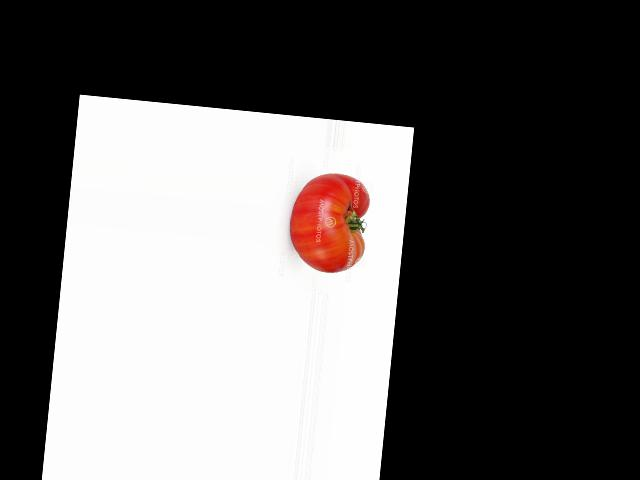tomato: (285, 170, 372, 276)
